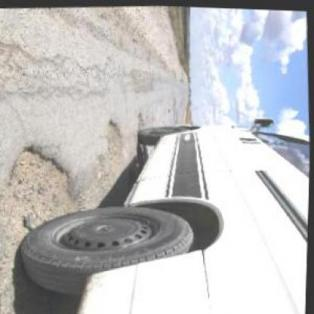Hueco: (0, 140, 87, 244), (102, 118, 127, 172), (136, 111, 146, 131)
